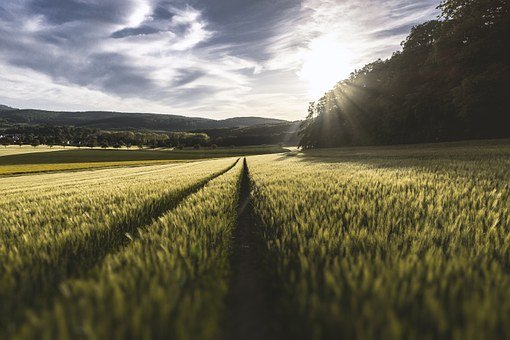field: (7, 158, 504, 337)
mountain: (298, 14, 510, 142)
sky: (2, 1, 456, 120)
